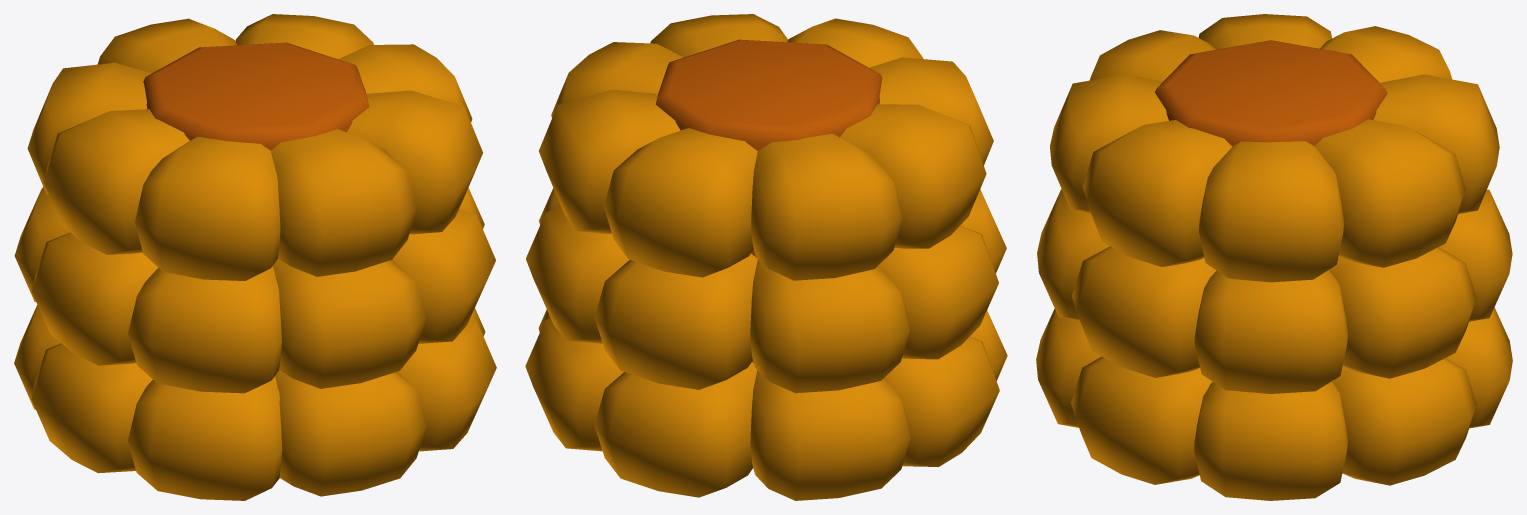
File: Corn_medallion.fbx
3 views of the same model, side by side, from view 1: azimuth 30°, elevation 25°; view 2: azimuth 150°, elevation 25°; view 3: azimuth 270°, elevation 25° (orthographic).
Visible parts, largest first — view 1: Corn_medallion; view 2: Corn_medallion; view 3: Corn_medallion.
Boxes of the visible parts, box(x1,y1,x2,y2) form: Corn_medallion: box(14, 14, 496, 500); Corn_medallion: box(525, 14, 1007, 500); Corn_medallion: box(1036, 14, 1512, 500).
Bounding box in the file's own units: 78.5 × 78.54 × 61.25.
